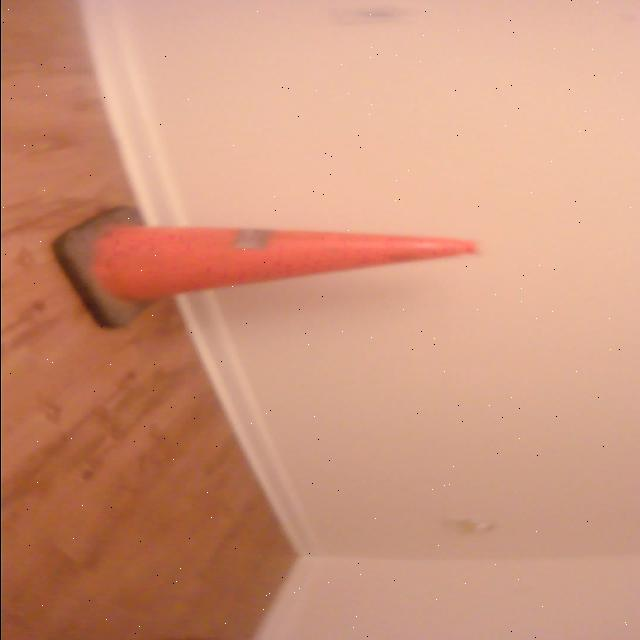traffic cone: (48, 204, 487, 332)
